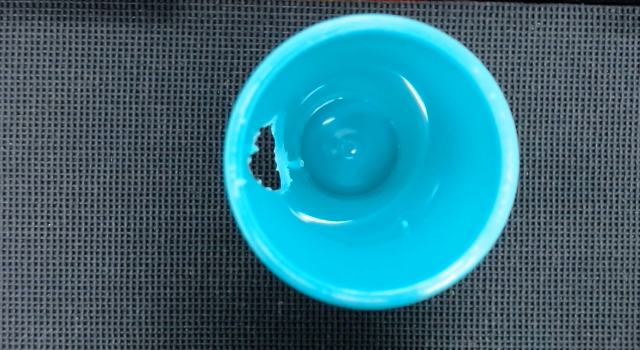hole: (249, 123, 283, 191)
